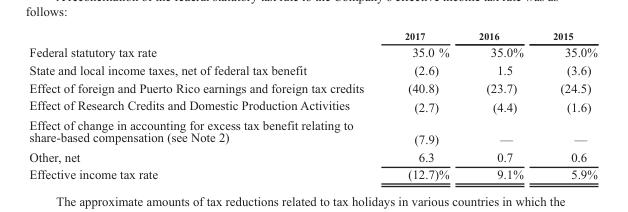table: (28, 29, 596, 181)
table column: (28, 29, 383, 181), (383, 29, 463, 181), (463, 29, 537, 181), (537, 29, 596, 181)
table column header: (28, 29, 596, 42)
table row: (28, 115, 596, 147), (28, 96, 596, 115), (28, 42, 596, 60), (28, 60, 596, 78), (28, 78, 596, 96), (28, 147, 596, 165), (28, 165, 596, 181), (28, 29, 596, 42)
